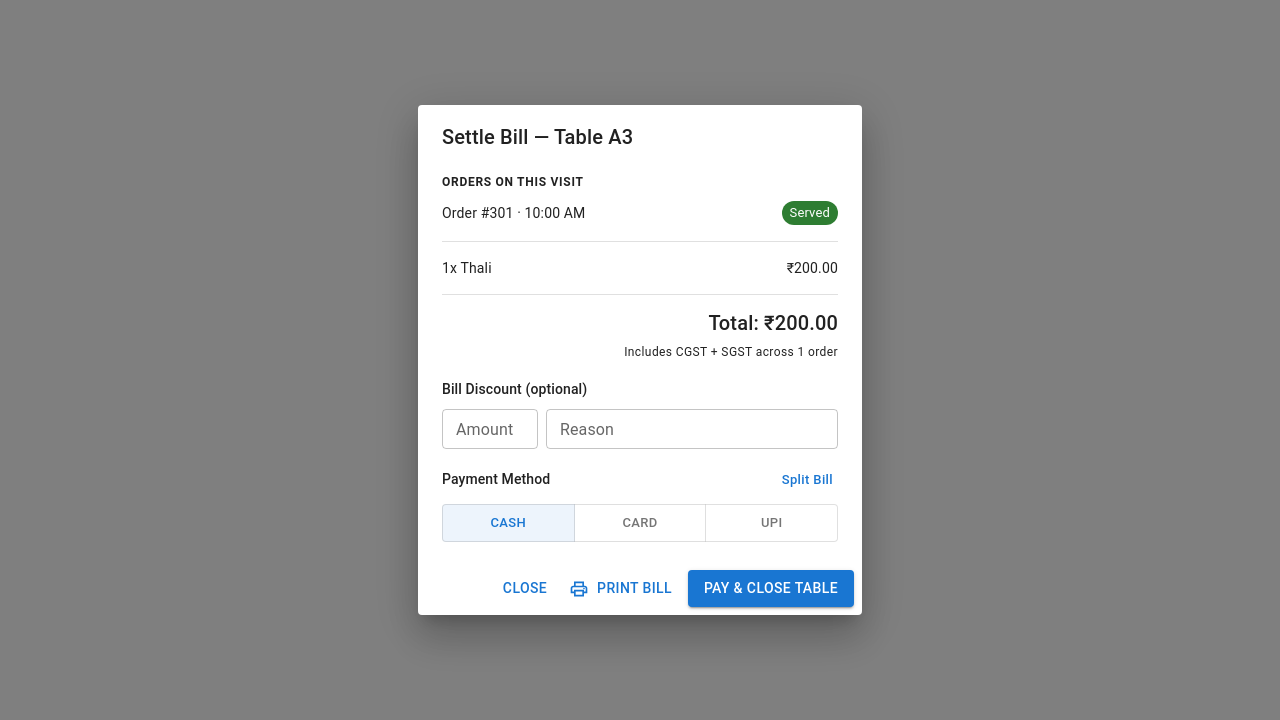
Test: SettleBillDialog - applying a bill discount › shows the live Amount Due once a discount is entered
expect the heading "Bill Discount (optional)" is shown: met, box [442,381,587,397]
In the number field labelled "Amount": (490, 429) [442,409,538,449], type "50"
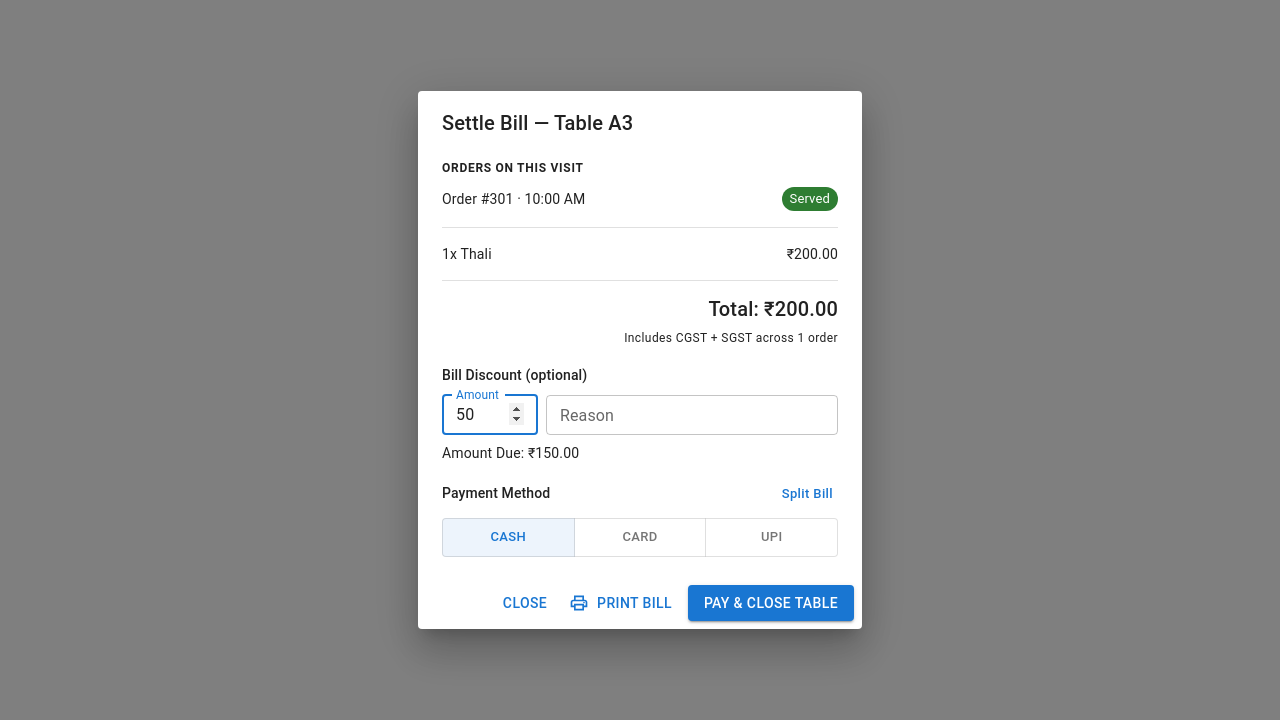
expect the text "Amount Due: ₹150.00" is shown: met, box [442,445,579,461]
